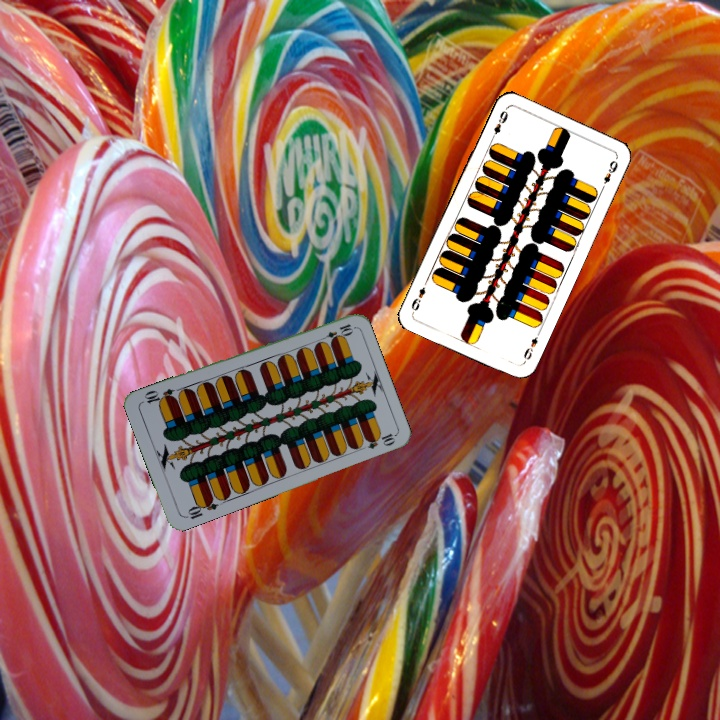E10: (181, 494, 220, 522), (316, 320, 355, 345)
E9: (487, 105, 511, 144), (519, 327, 543, 365)
